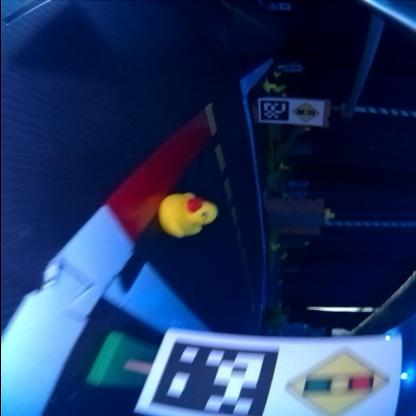Duckie: (158, 194, 216, 238), (262, 82, 276, 92), (325, 210, 335, 220), (270, 242, 280, 252), (274, 72, 280, 78)
QR code: (150, 341, 278, 415), (260, 100, 290, 122)
Signal sign: (285, 348, 392, 415), (292, 102, 320, 124)
